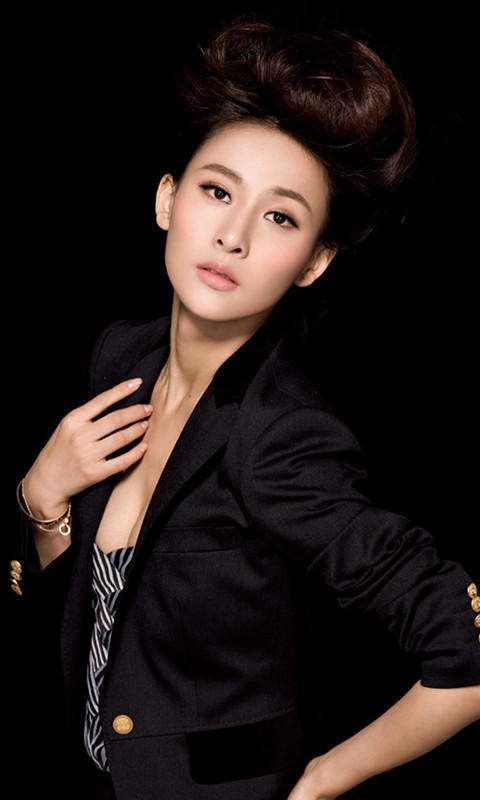person: (86, 67, 420, 762)
